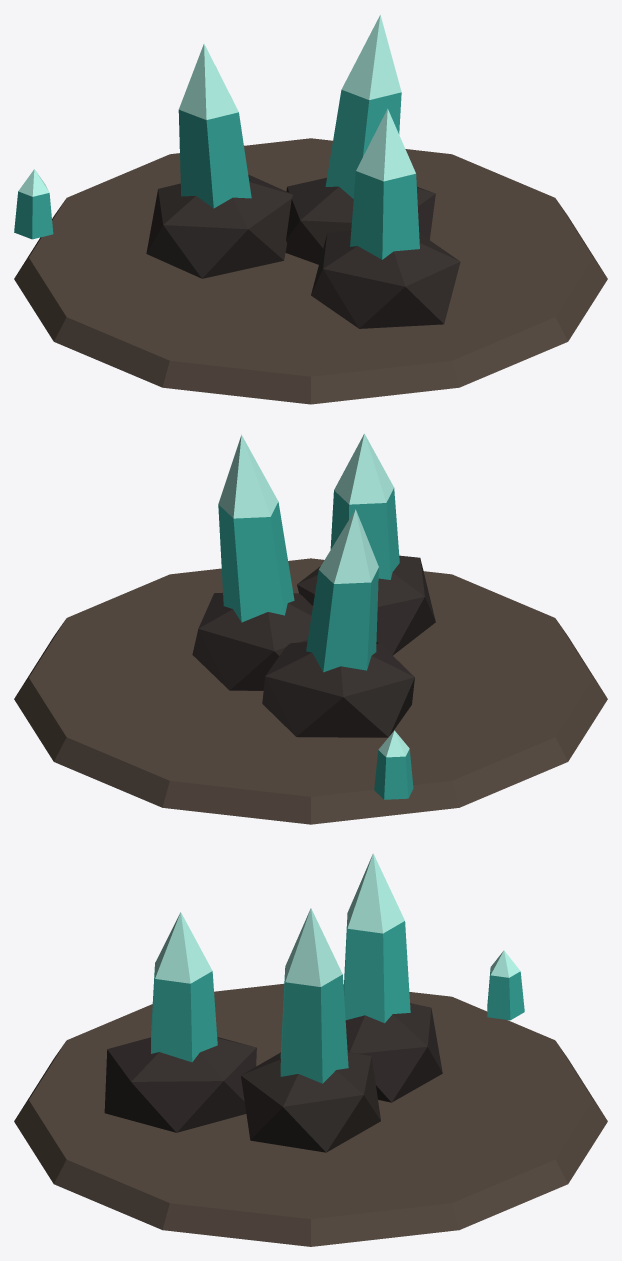
File: Field_Crystal_1.fbx
3 views of the same model, one above another, from view 1: azimuth 30°, elevation 25°; view 2: azimuth 150°, elevation 25°; view 3: azimuth 270°, elevation 25° (orthographic).
Visible parts, largest first — view 1: Field_Crystal_1; view 2: Field_Crystal_1; view 3: Field_Crystal_1.
Part boxes in pixels (box(x1,y1,x2,y2)): Field_Crystal_1: box(14, 15, 607, 404); Field_Crystal_1: box(14, 433, 607, 824); Field_Crystal_1: box(14, 853, 607, 1246).
Size of the model in its own units: 2 by 0.94 by 2.
1 material, 1 textured.
